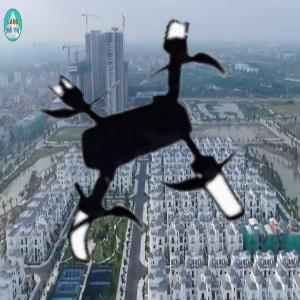drone: (18, 23, 284, 289)
